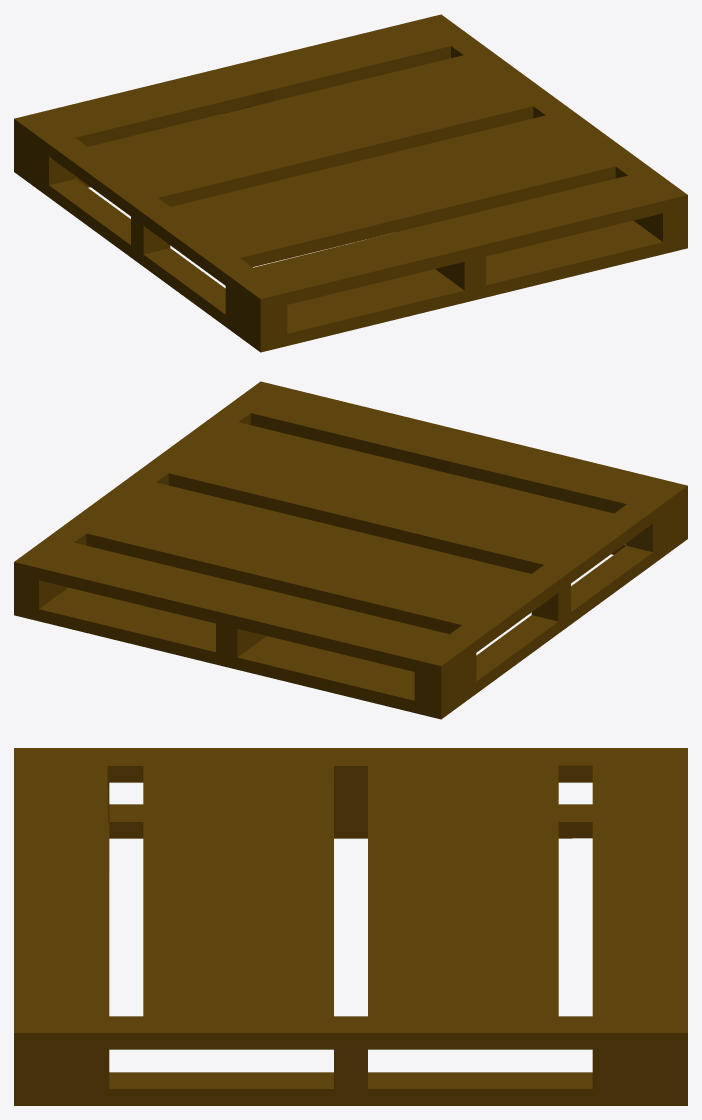
File: pallet.fbx
The picture shows the model from 3 angles, top to bottom: view 1: azimuth 30°, elevation 25°; view 2: azimuth 150°, elevation 25°; view 3: azimuth 270°, elevation 25°; orthographic projection. The views are drawn at different scales.
Parts seen in each view (by area): view 1: Cube; view 2: Cube; view 3: Cube.
Part boxes in pixels (bbox=[...]): Cube: bbox=[14, 14, 687, 352]; Cube: bbox=[14, 381, 687, 719]; Cube: bbox=[14, 748, 687, 1105].
Size of the model in its own units: 600 by 71.53 by 600.
